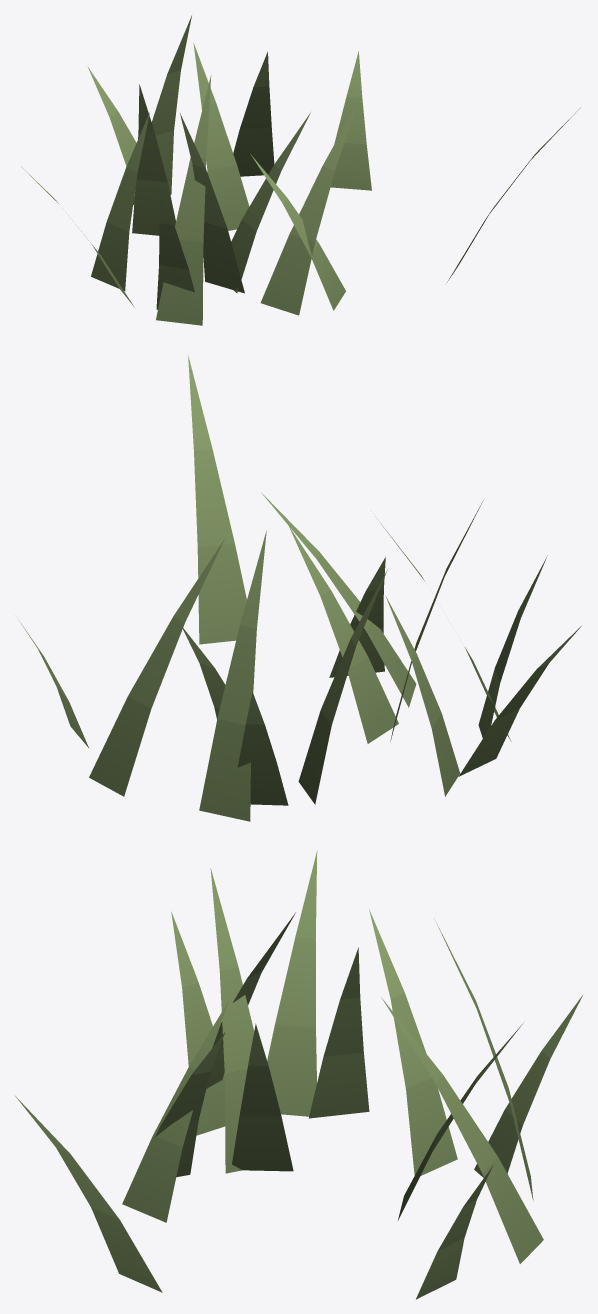
Rendered from grass_5.glb.
The picture shows the model from 3 angles, top to bottom: view 1: azimuth 30°, elevation 25°; view 2: azimuth 150°, elevation 25°; view 3: azimuth 270°, elevation 25°; orthographic projection. The views are drawn at different scales.
Parts seen in each view (by area): view 1: grass_5.001; view 2: grass_5.001; view 3: grass_5.001.
Part boxes in pixels (bbox=[...]): grass_5.001: bbox=[21, 15, 580, 325]; grass_5.001: bbox=[19, 355, 581, 821]; grass_5.001: bbox=[15, 850, 583, 1299].
Bounding box in the file's own units: 0.4823 × 0.2177 × 0.4083.
